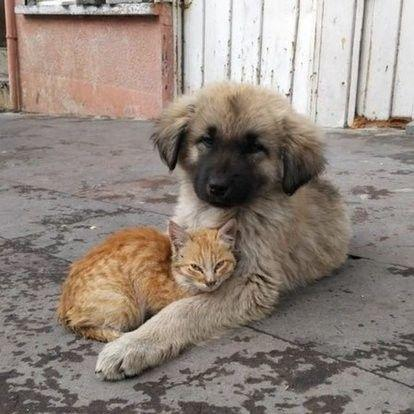kedo: (166, 219, 237, 298)
